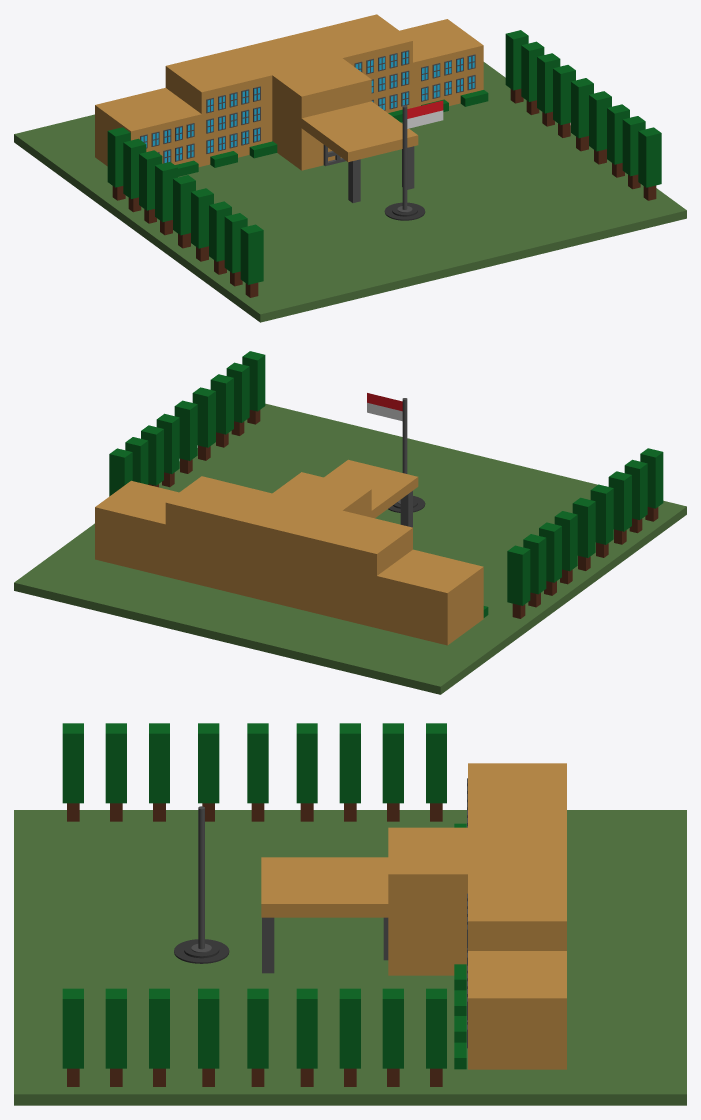
The model's file is schol.fbx.
3 renders of one model, top to bottom at view 1: azimuth 30°, elevation 25°; view 2: azimuth 150°, elevation 25°; view 3: azimuth 270°, elevation 25°, orthographic. The views are drawn at different scales.
Parts seen in each view (by area): view 1: Plane, Cube, Cube.097, Cube.093, kaca, Cube.058, Cube.096, Cube.082, Cylinder.002, Cube.021; view 2: Plane, Cube, Cube.097, Cube.093, Cube.096, Cube.082; view 3: Plane, Cube, Cube.093, Cube.097, Cube.082, Cube.096, Cube.058, Cylinder.002, Cube.022, Cylinder.
Boxes of the visible parts, x1,y1,x2,y2 form: Plane: (14, 62, 686, 322); Cube: (95, 14, 483, 170); Cube.097: (107, 127, 263, 284); Cube.093: (505, 30, 661, 187); kaca: (141, 51, 474, 162); Cube.058: (175, 90, 488, 176); Cube.096: (112, 186, 258, 297); Cube.082: (510, 89, 656, 200); Cylinder.002: (397, 105, 412, 212); Cube.021: (348, 159, 360, 202); Plane: (14, 403, 686, 694); Cube: (95, 459, 483, 645); Cube.097: (507, 448, 663, 605); Cube.093: (109, 351, 265, 496); Cube.096: (512, 507, 658, 618); Cube.082: (148, 410, 260, 487); Plane: (14, 810, 686, 1105); Cube: (261, 763, 566, 1069); Cube.093: (62, 988, 446, 1068); Cube.097: (62, 723, 446, 803); Cube.082: (67, 1068, 442, 1086); Cube.096: (67, 803, 442, 821); Cube.058: (454, 823, 466, 1069); Cylinder.002: (191, 806, 211, 952); Cube.022: (262, 917, 274, 973); Cylinder: (174, 939, 229, 963).
Size of the model in its own units: 10935 by 2789 by 10935.
